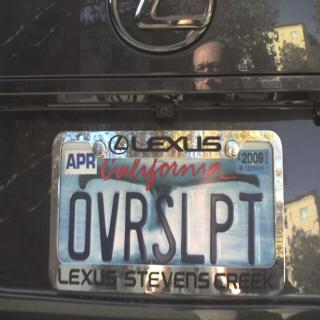license: (48, 132, 287, 298)
